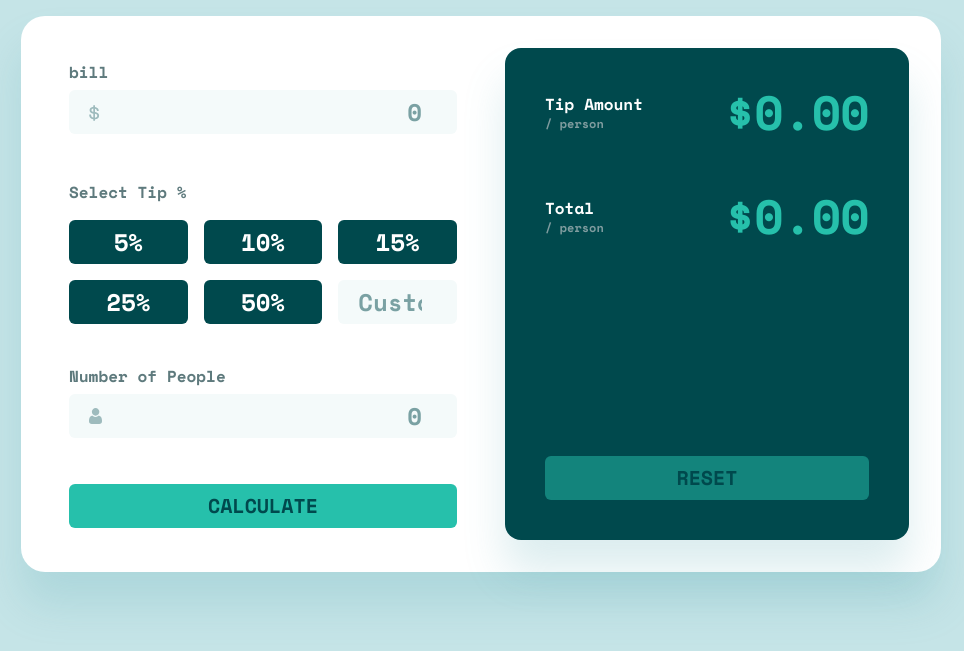
it: Tip Calculator App › shows an error if custom tip is over 100% and prevents calculation
Type "100" into the number field labelled "bill" at (263, 112), box top-left (69, 90), bottom-right (457, 134)
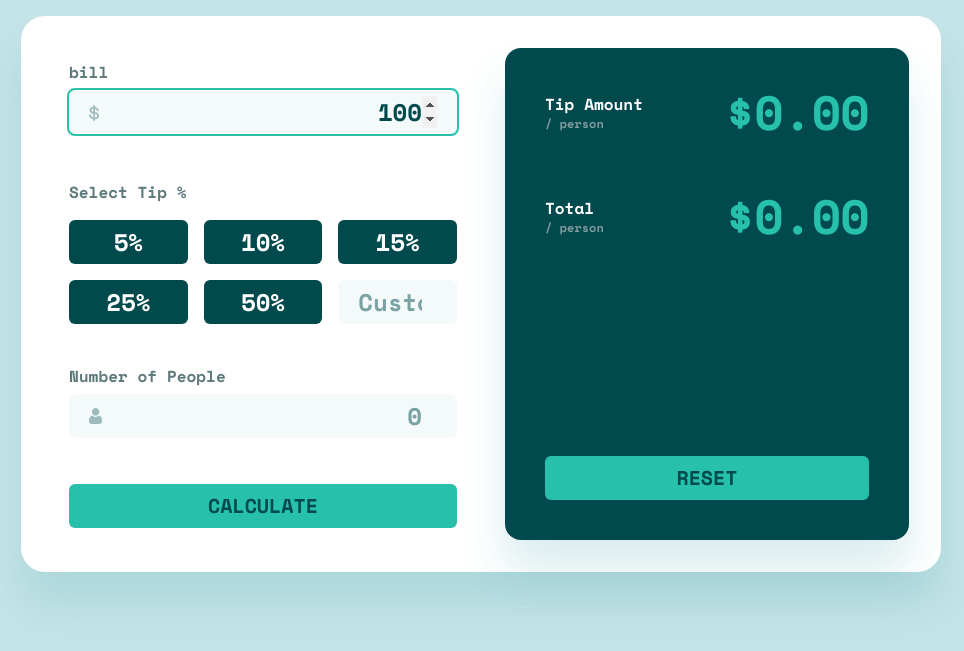
Type "102" into the number field with placeholder "Custom" at (398, 302), box top-left (338, 280), bottom-right (457, 324)
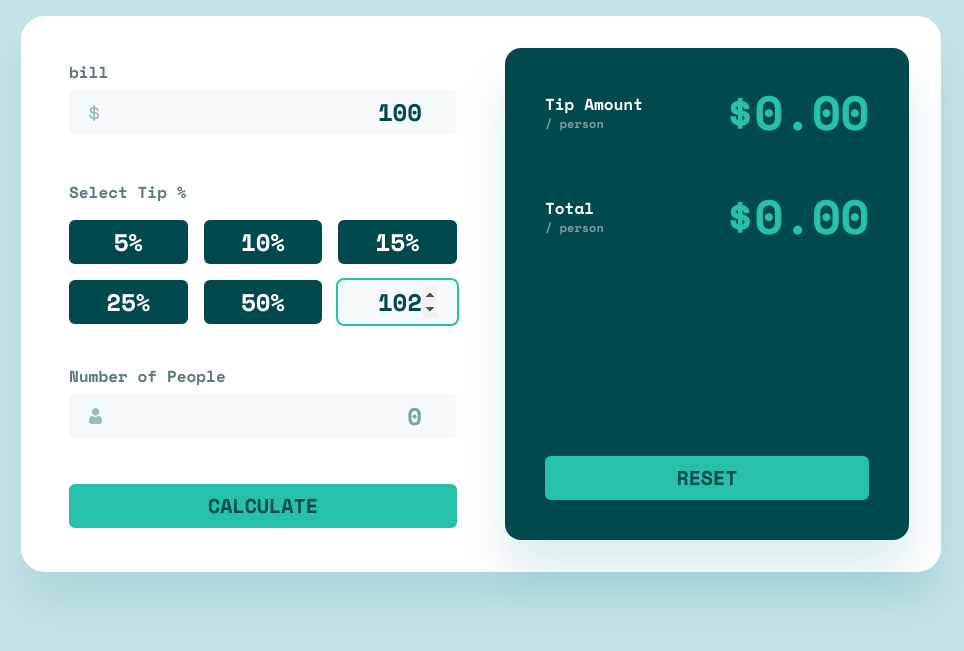
Type "4" into the number field labelled "Number of People" at (263, 416), box top-left (69, 394), bottom-right (457, 438)
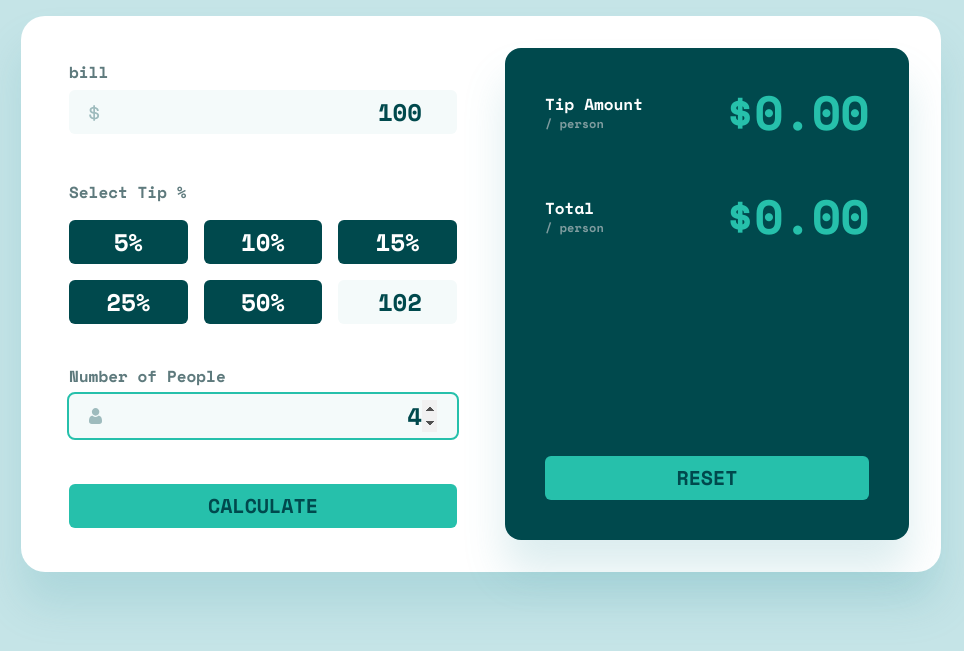
Click the button "Calculate" at (263, 506), box top-left (69, 484), bottom-right (457, 528)
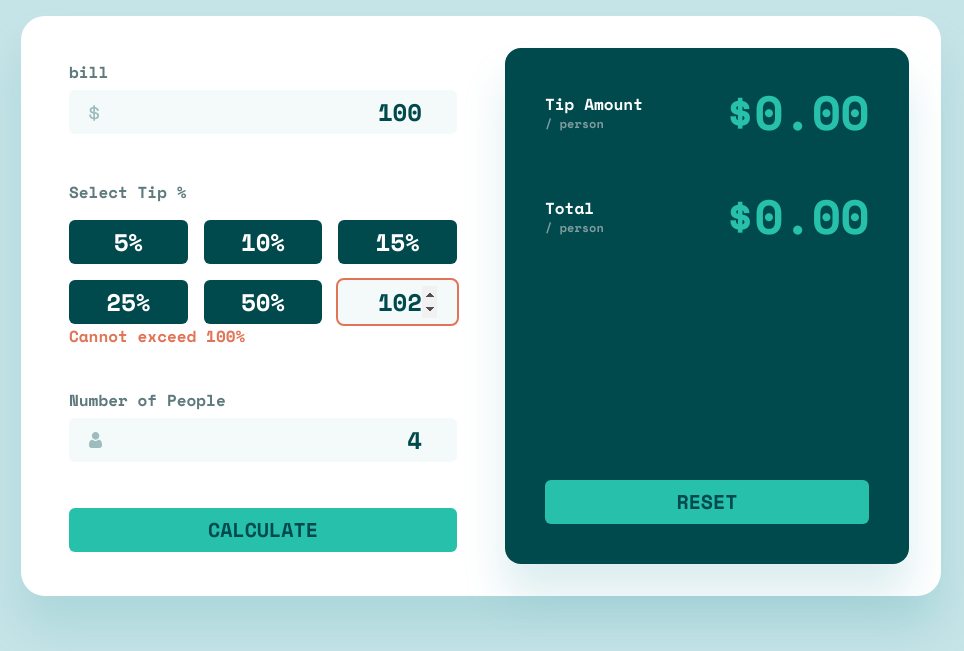
Check: the text "Cannot exceed 100%" is shown, box top-left (69, 324), bottom-right (245, 348)
